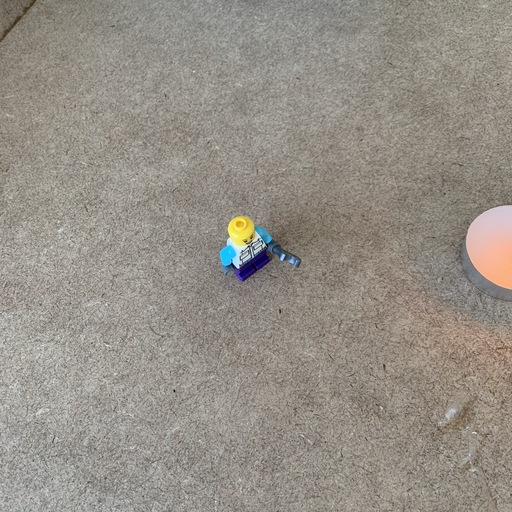human: (215, 214, 283, 285)
